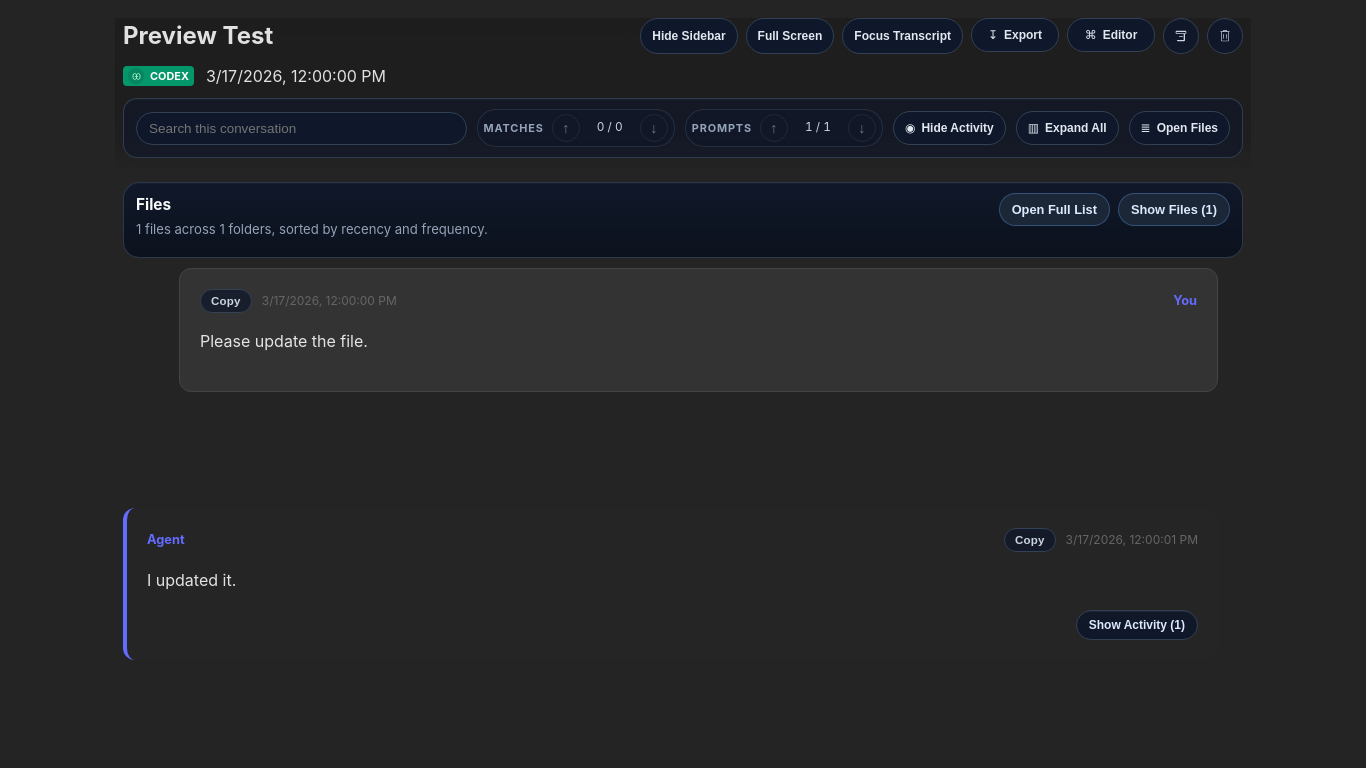
Test: ConversationDetail file preview › hides the inline files panel in transcript mode and opens the files modal from the header
Expected: the element "Files" is shown, [123,182,1243,258]
Click the button "Focus Transcript": point(903, 36) [842,18,963,54]
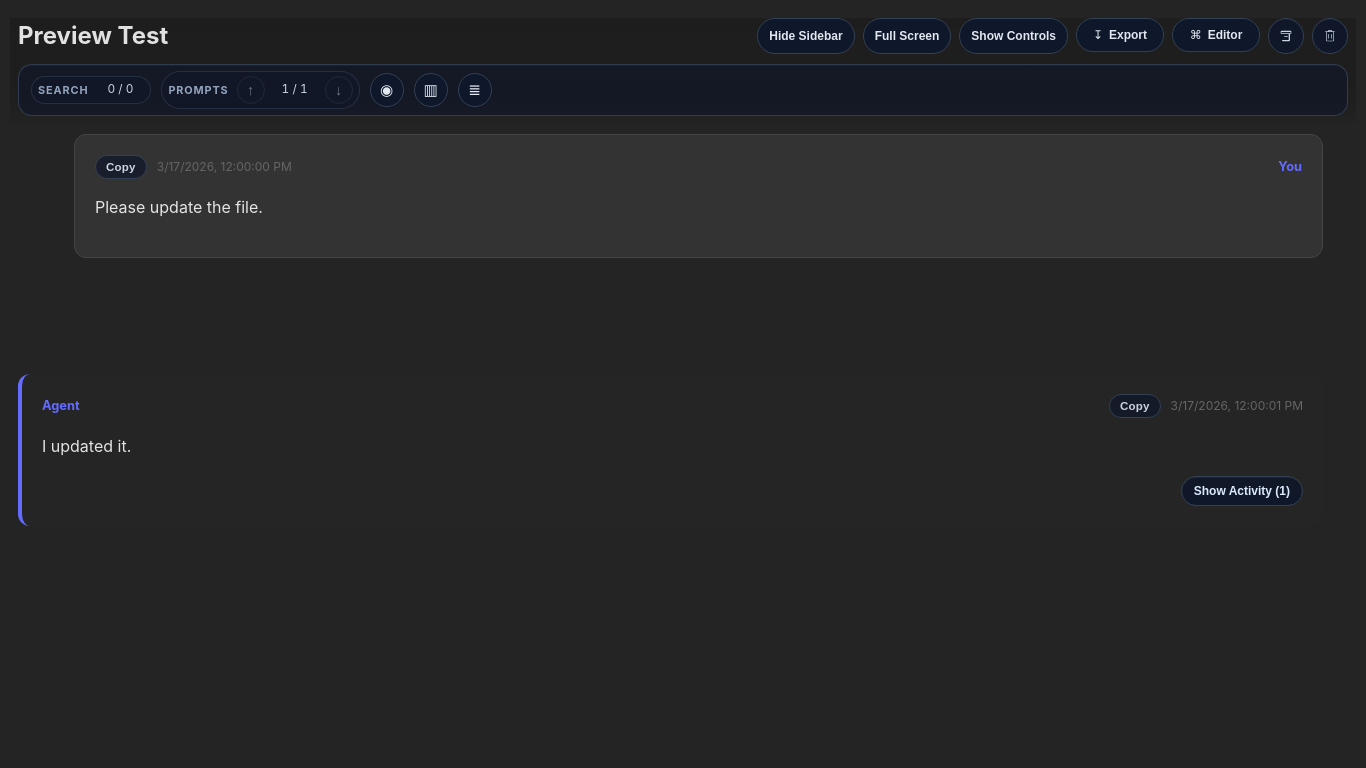
Expected: the button "Files" is gone
Click the button named "Open Files": point(475, 90) [458,73,492,107]
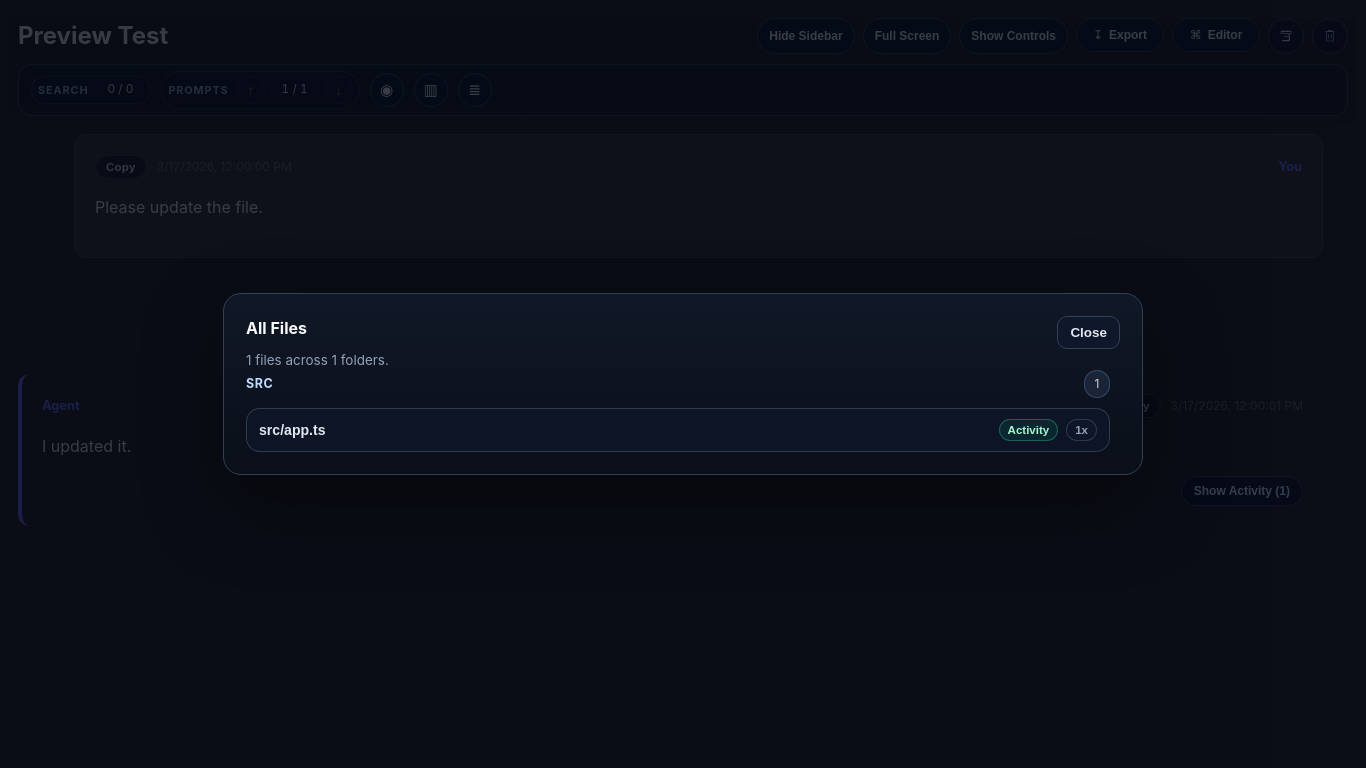
Expected: the dialog "All Files" is shown, [223,293,1143,475]
